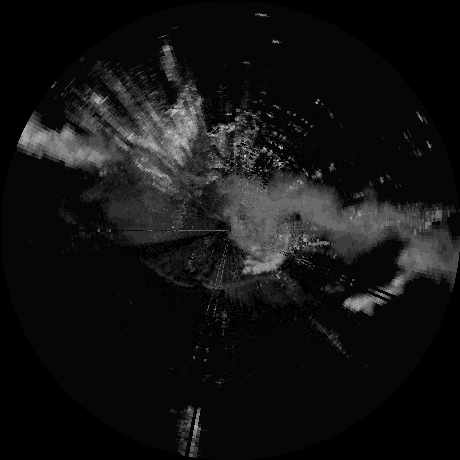frontgust: (146, 263, 189, 287), (203, 277, 278, 289)
